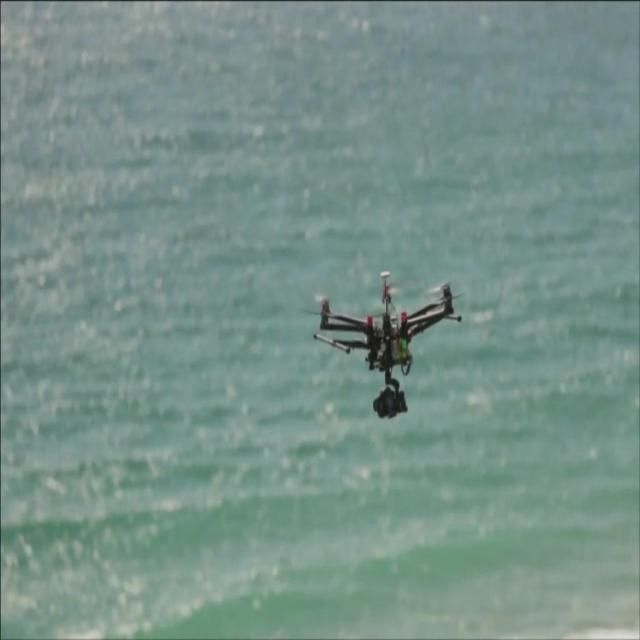drone: (310, 268, 471, 422)
